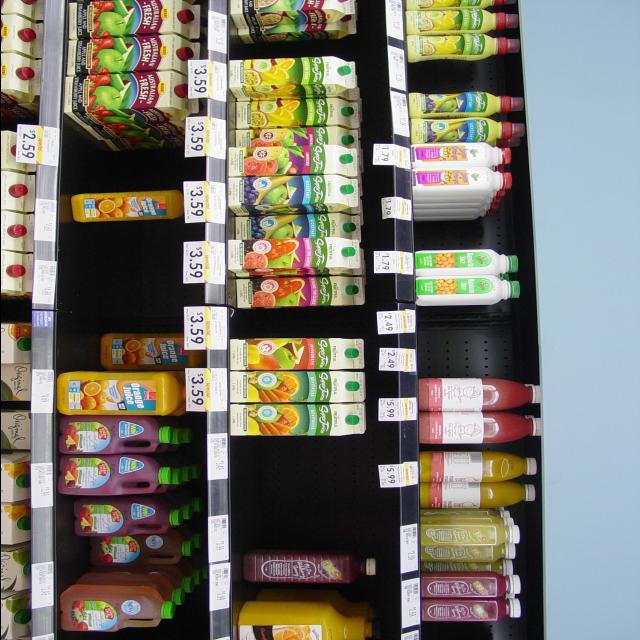empty_space: (225, 435, 351, 545), (59, 229, 169, 331), (419, 308, 521, 372), (65, 144, 168, 194), (403, 60, 502, 96), (410, 214, 499, 250)
